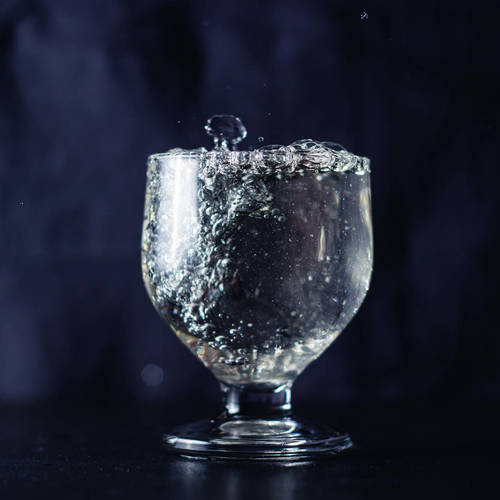glass of water: (153, 156, 352, 455)
